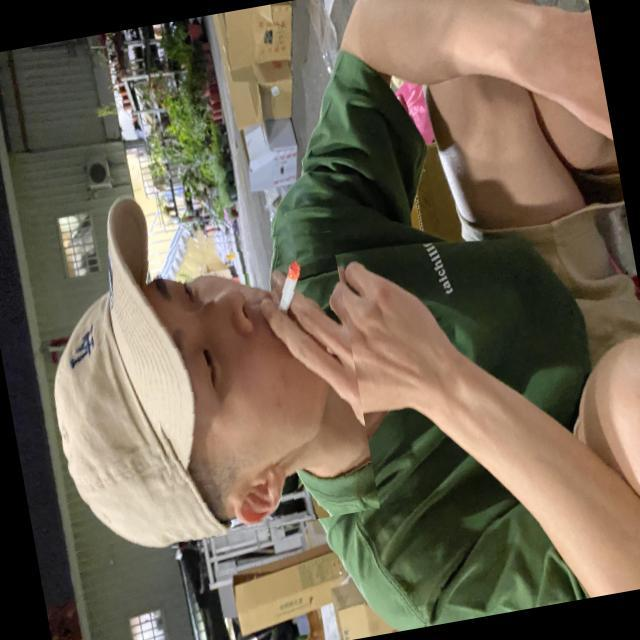cigarette: (259, 228, 329, 335)
